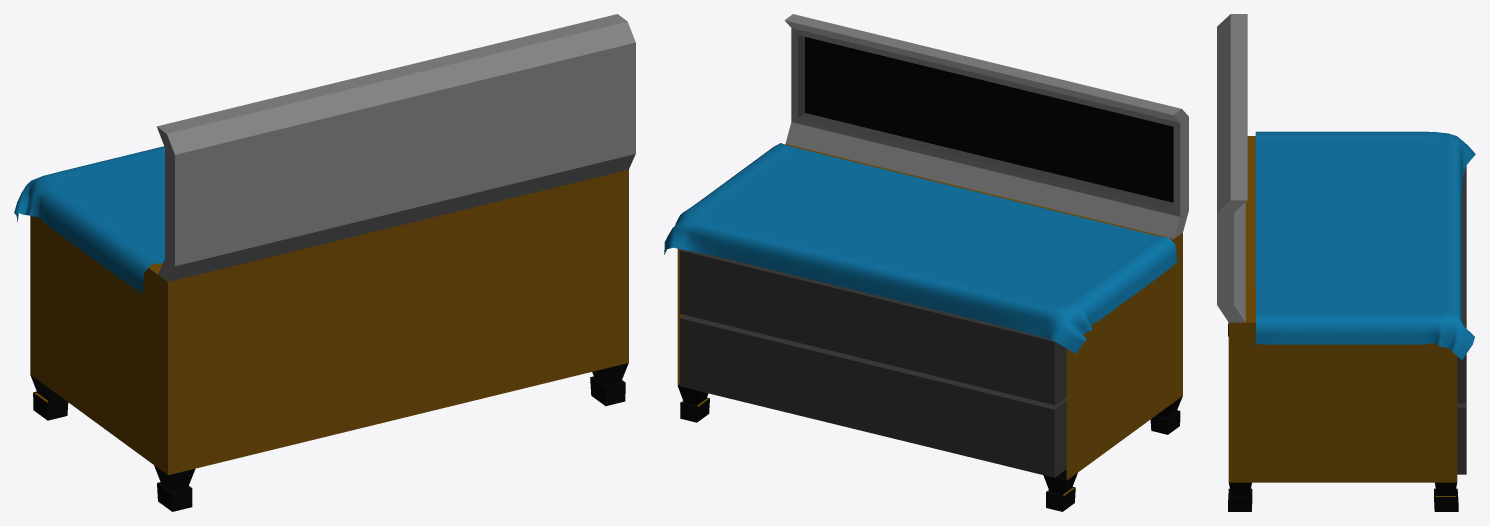
Rendered from HolograficTableCounter.fbx.
3 views of the same model, side by side, from view 1: azimuth 30°, elevation 25°; view 2: azimuth 150°, elevation 25°; view 3: azimuth 270°, elevation 25° (orthographic). The views are drawn at different scales.
Parts seen in each view (by area): view 1: BaseCounter, Base_Texture_BlueTie; view 2: BaseCounter, Base_Texture_BlueTie; view 3: BaseCounter, Base_Texture_BlueTie.
Part boxes in pixels (x1=…): BaseCounter: x1=30, y1=14, x2=635, y2=511; Base_Texture_BlueTie: x1=14, y1=146, x2=164, y2=293; BaseCounter: x1=677, y1=14, x2=1188, y2=511; Base_Texture_BlueTie: x1=664, y1=143, x2=1176, y2=353; BaseCounter: x1=1217, y1=14, x2=1466, y2=511; Base_Texture_BlueTie: x1=1255, y1=131, x2=1475, y2=359.
Size of the model in its own units: 209 by 113 by 151.
